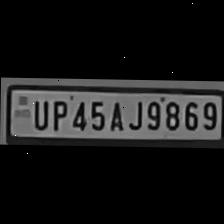4: (68, 96, 88, 129)
5: (86, 96, 106, 129)
6: (180, 98, 198, 130)
8: (162, 97, 180, 129)
9: (140, 95, 162, 128), (198, 97, 218, 128)
A: (106, 96, 126, 130)
J: (124, 96, 142, 129)
P: (46, 96, 68, 128)
U: (28, 95, 48, 128)
